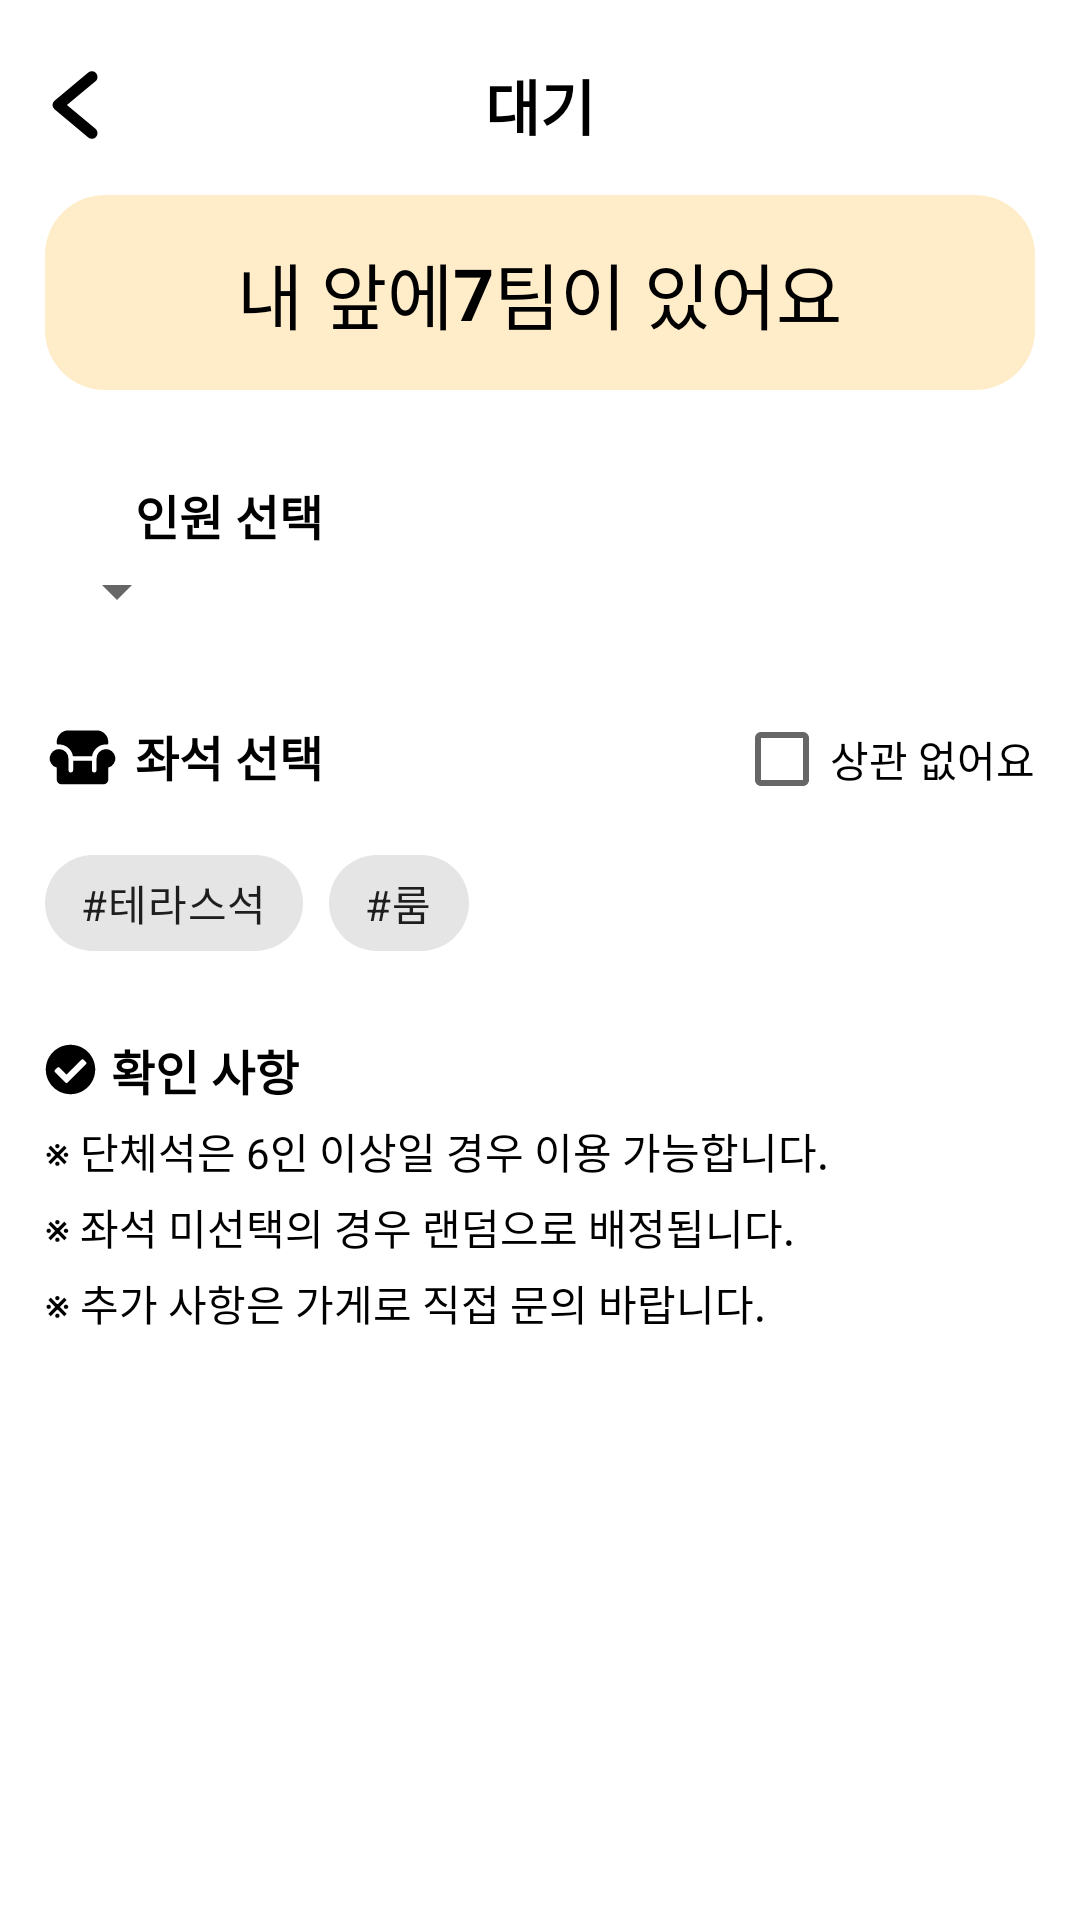

Icons on this 1080x1920 Android screen, each with the point to tap as point (x, y):
armchair: point (82, 757)
back: point (75, 105)
check: point (70, 1069)
